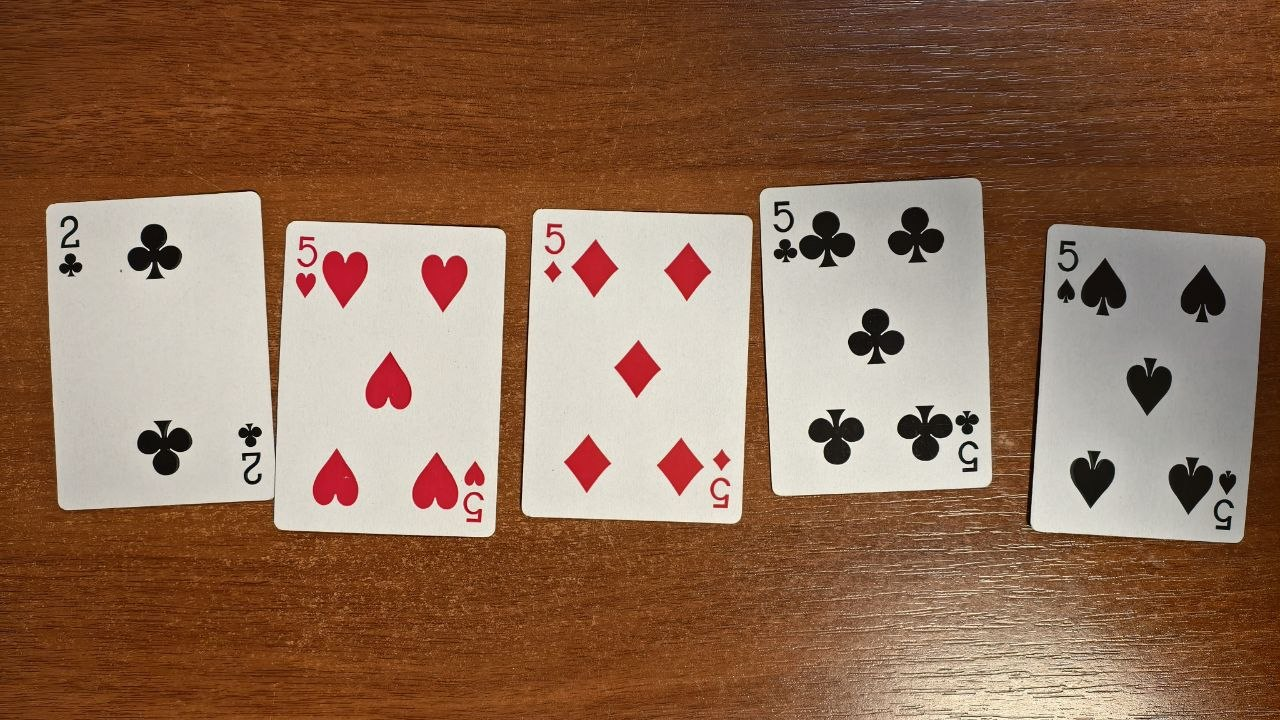2C: (46, 190, 275, 511)
5C: (758, 176, 996, 499)
5D: (522, 207, 754, 526)
5H: (274, 219, 507, 539)
5S: (1028, 223, 1267, 543)
